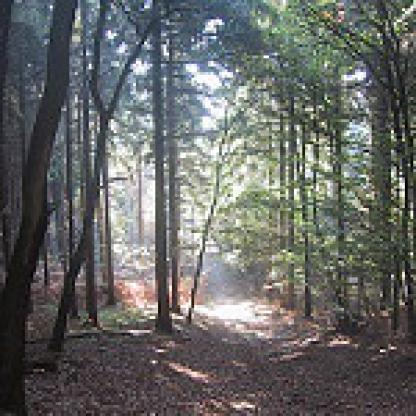tree: (261, 0, 413, 316), (183, 75, 275, 327)
trunk: (44, 19, 152, 358), (0, 3, 83, 413), (149, 0, 175, 339), (80, 50, 100, 330), (333, 136, 349, 316), (100, 155, 116, 308), (302, 139, 314, 316), (280, 114, 289, 291), (288, 136, 297, 305), (391, 258, 399, 333)
